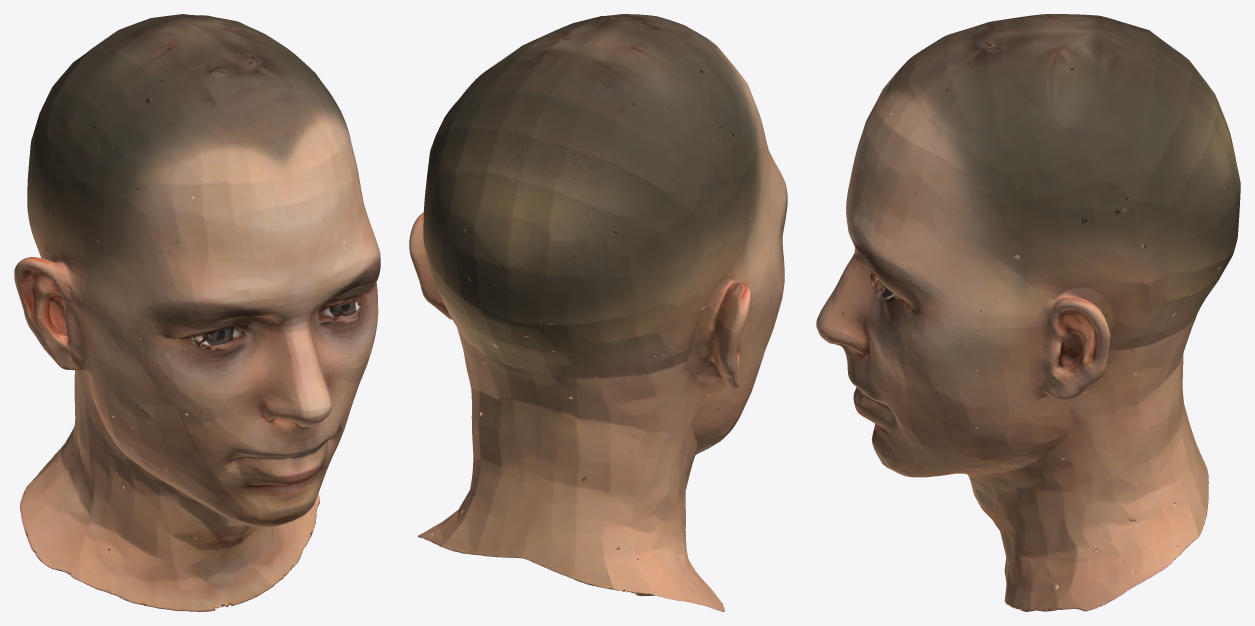
File: Reflection_0716024304_texture.fbx
3 renders of one model, left to right at view 1: azimuth 30°, elevation 25°; view 2: azimuth 150°, elevation 25°; view 3: azimuth 270°, elevation 25°, orthographic. The views are drawn at different scales.
Visible parts, largest first — view 1: Mesh_0; view 2: Mesh_0; view 3: Mesh_0.
Boxes of the visible parts, x1,y1,x2,y2 form: Mesh_0: [14, 14, 380, 611]; Mesh_0: [409, 14, 787, 611]; Mesh_0: [816, 14, 1240, 611].
Size of the model in its own units: 122 by 200 by 137.
1 material, 1 textured.
